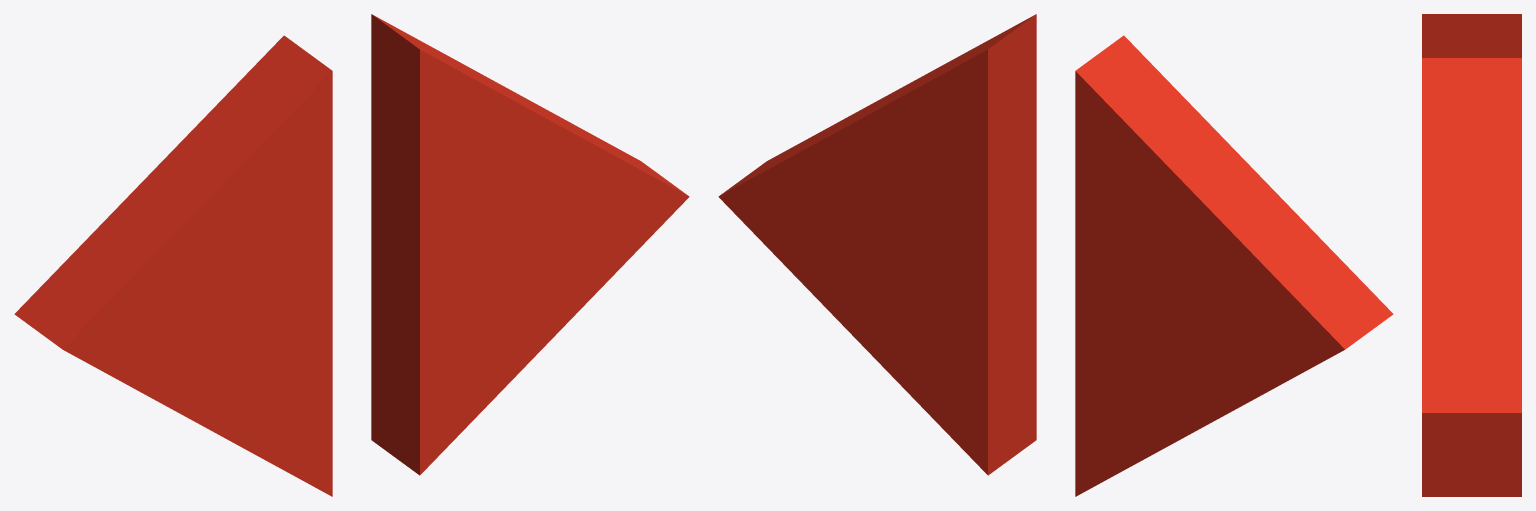
File: Icon_Elevator_01.fbx
The picture shows the model from 3 angles, left to right: view 1: azimuth 30°, elevation 25°; view 2: azimuth 150°, elevation 25°; view 3: azimuth 270°, elevation 25°; orthographic projection. The views are drawn at different scales.
Visible parts, largest first — view 1: Icon_Elevator_01; view 2: Icon_Elevator_01; view 3: Icon_Elevator_01.
Boxes of the visible parts, x1,y1,x2,y2 form: Icon_Elevator_01: [14, 14, 689, 496]; Icon_Elevator_01: [718, 14, 1393, 496]; Icon_Elevator_01: [1422, 14, 1521, 496].
Bounding box in the file's own units: 90.07 × 58.51 × 12.06.
